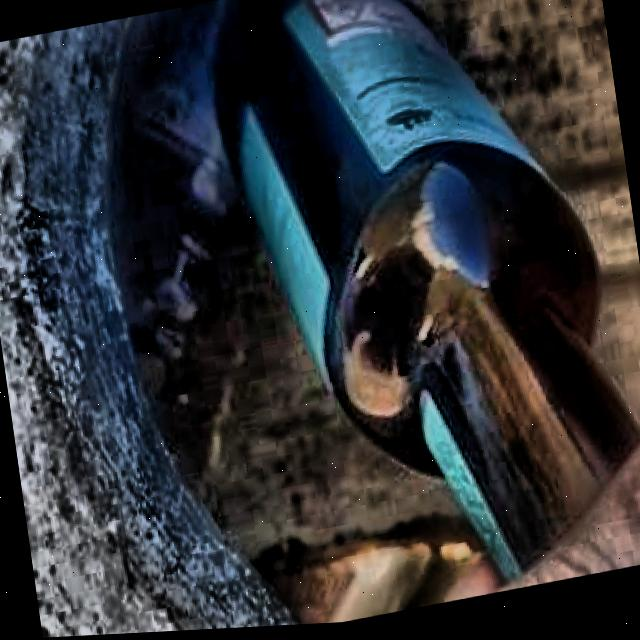glass: (223, 0, 640, 586)
